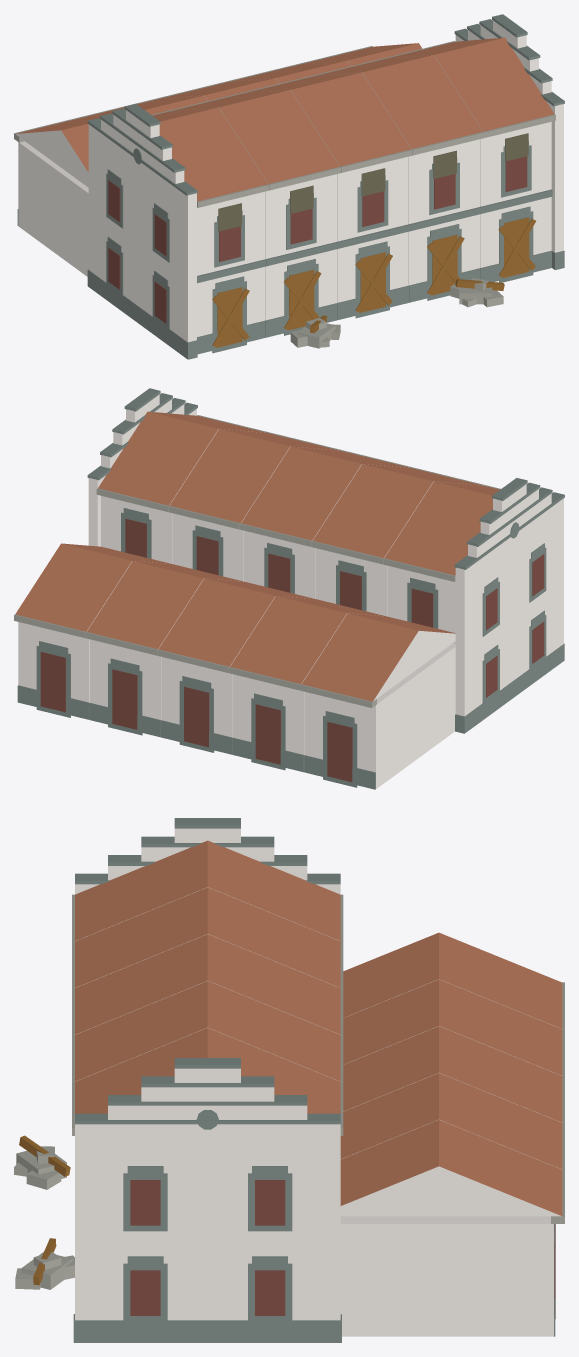
The model's file is SM_EdificioViajerosNules_v3_Caida_LOD1.fbx.
3 views of the same model, one above another, from view 1: azimuth 30°, elevation 25°; view 2: azimuth 150°, elevation 25°; view 3: azimuth 270°, elevation 25° (orthographic). The views are drawn at different scales.
Parts seen in each view (by area): view 1: SM_edificio_viajeros_nules_v3_LOD1; view 2: SM_edificio_viajeros_nules_v3_LOD1; view 3: SM_edificio_viajeros_nules_v3_LOD1.
Boxes of the visible parts, x1,y1,x2,y2 form: SM_edificio_viajeros_nules_v3_LOD1: (14,14,564,359); SM_edificio_viajeros_nules_v3_LOD1: (14,388,564,789); SM_edificio_viajeros_nules_v3_LOD1: (14,818,564,1342).
Bounding box in the file's own units: 21.12 × 11.24 × 19.9.
